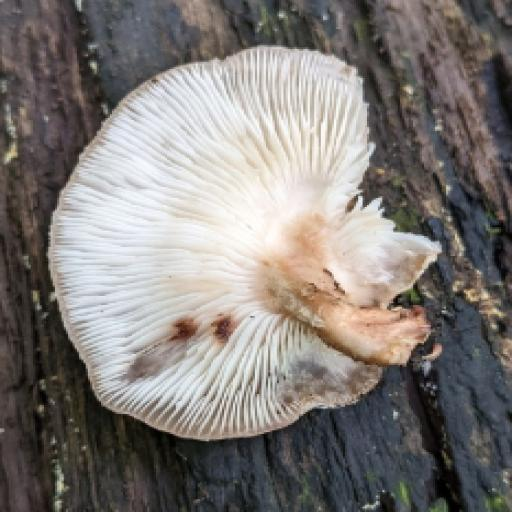Shiitake Mushroom: (3, 0, 477, 481)
